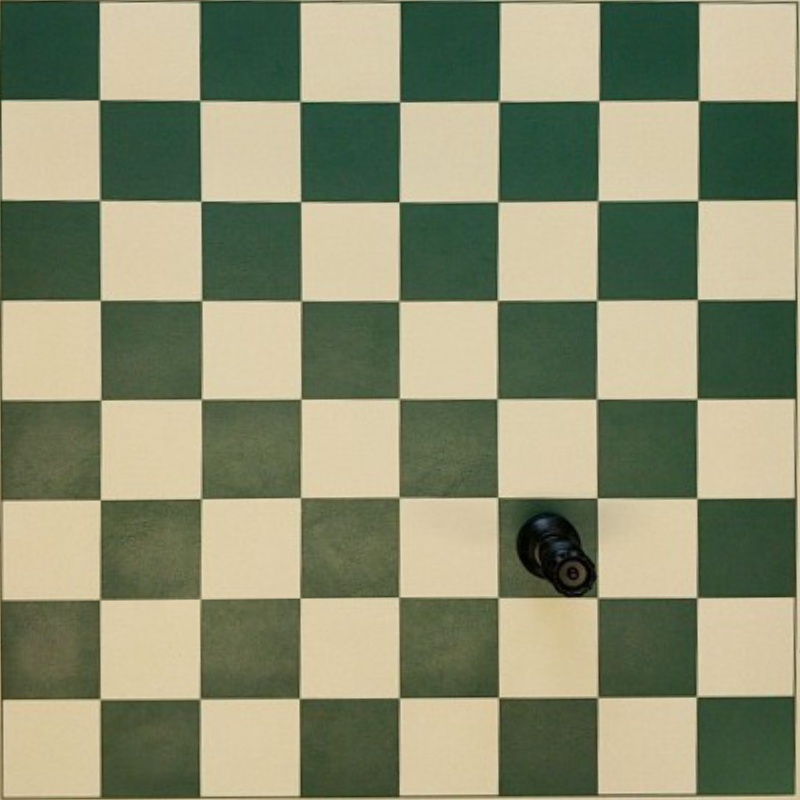black-queen: (517, 511, 596, 595)
